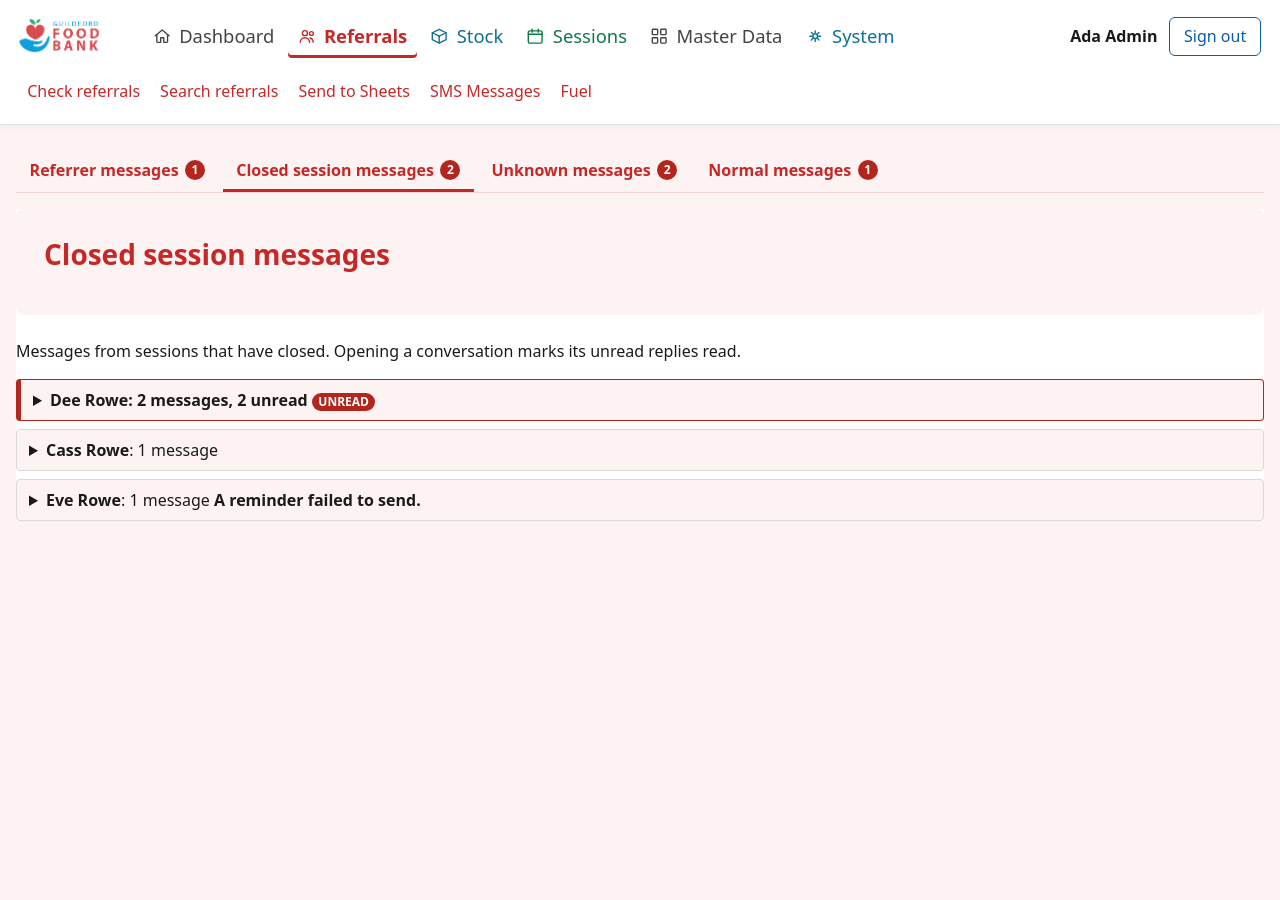
it: SmsInboxLayout — Normal messages tab › shows an error when marking a conversation read fails
This screenshot has width=1280, height=900.
`THREAD_READ` fails by default in `beforeEach`.
Click the text "Dee Rowe" at (89, 400), box [50,388,128,412]
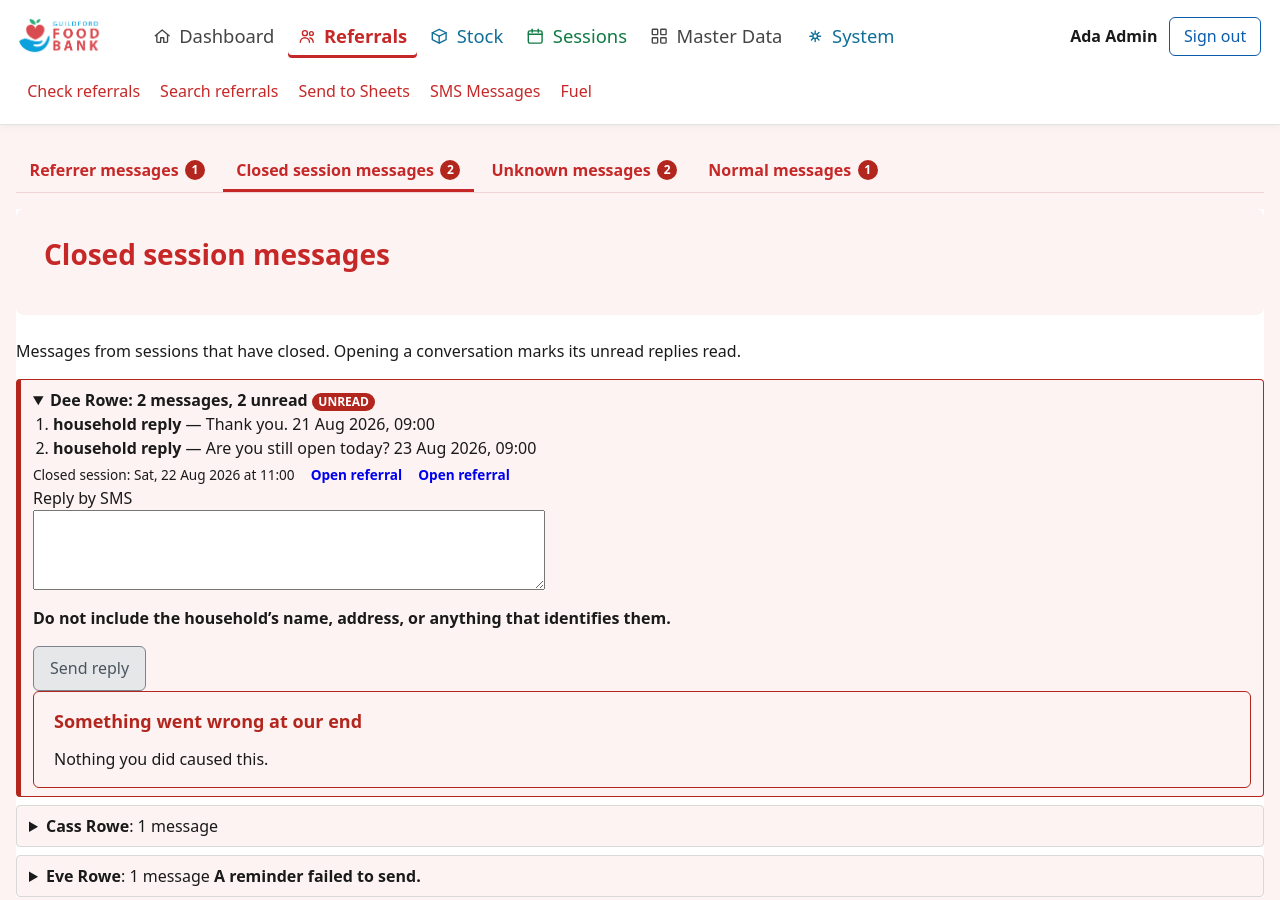
Now the message "Something went wrong at our end Nothing you did caused this." is shown, box [33,691,1251,788]
